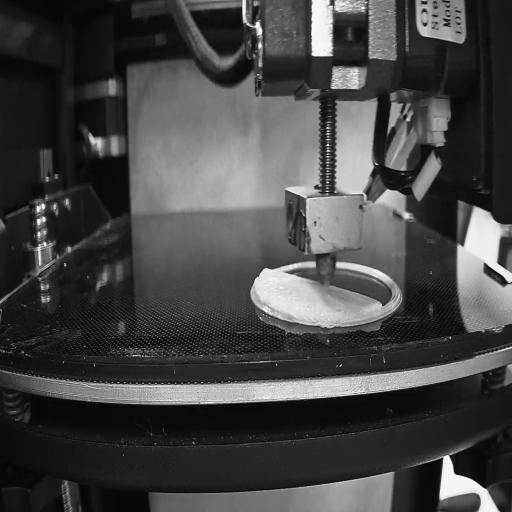over_extrusion: (251, 259, 273, 306)
